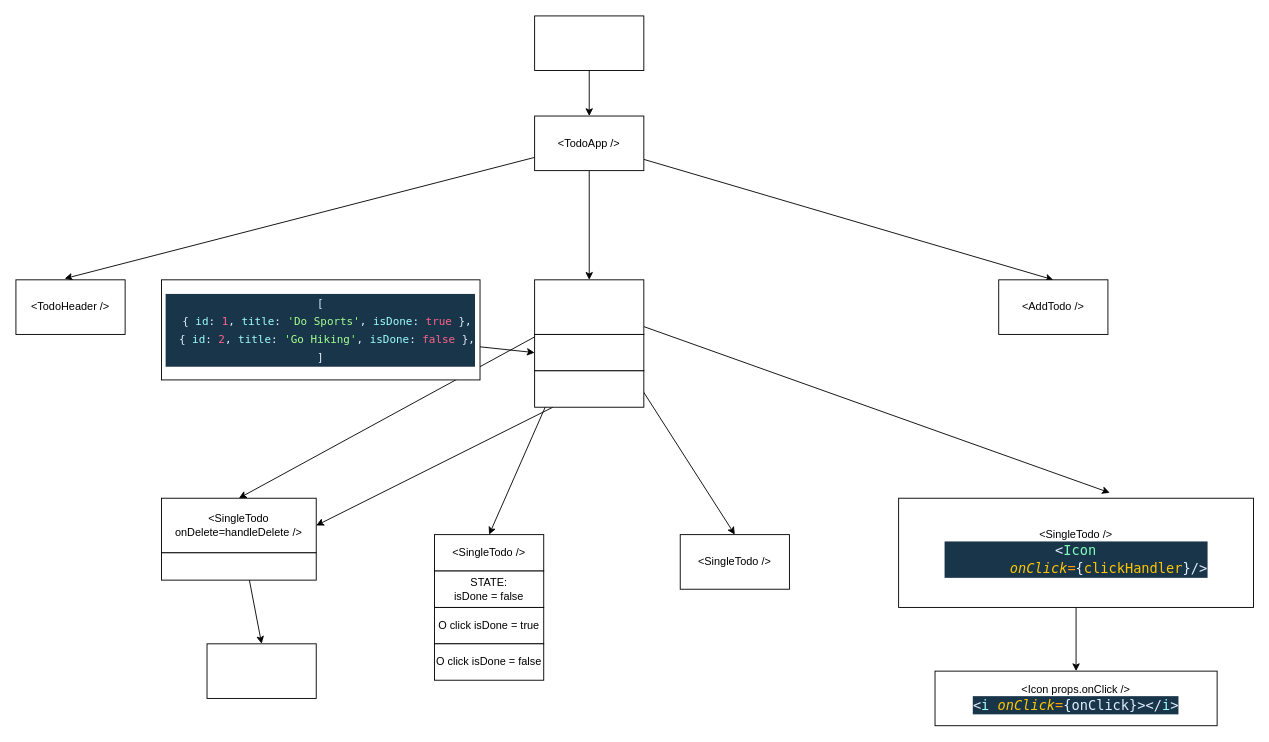
Some shapes in this 1269 by 742 pixel diagram are drawn without their labels. Each missing label, with the centre of its shape:
<App />: (x=589, y=43)
<Icon />: (x=261, y=670)
<TodoList />: (x=589, y=306)
handleDelete(): (x=589, y=388)
Icon Delete: (x=238, y=566)
STATE: mainTodoArr = []: (x=589, y=352)
